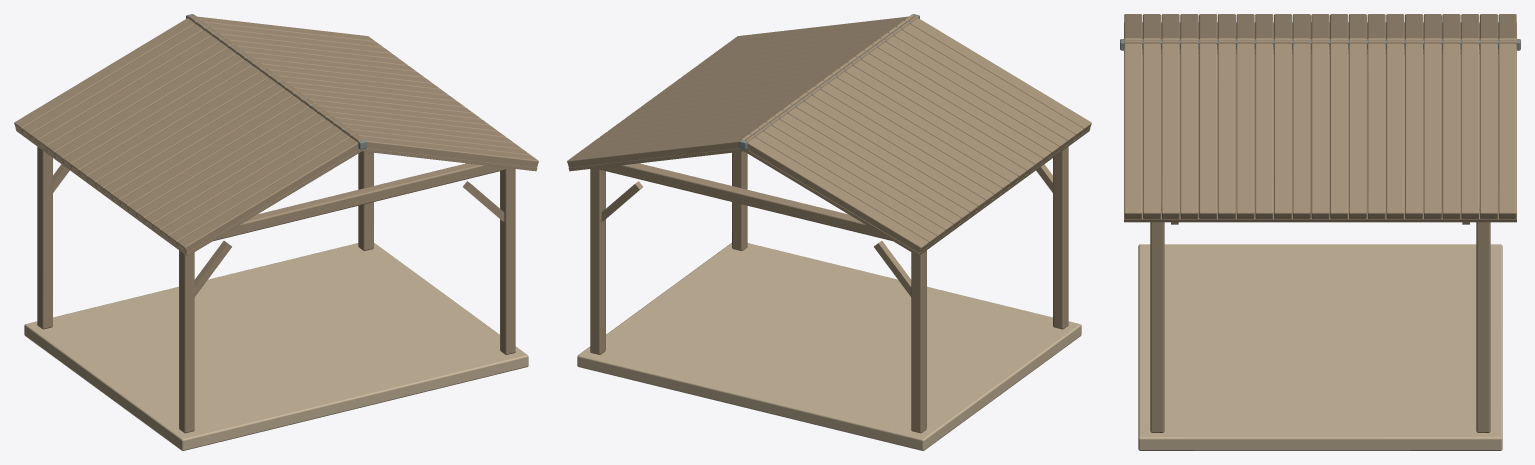
The model's file is coastal-saltworks-and-trade-port-coastal-saltworks-and-85ccae7a__31361.glb.
3 renders of one model, left to right at view 1: azimuth 30°, elevation 25°; view 2: azimuth 150°, elevation 25°; view 3: azimuth 270°, elevation 25°, orthographic. The views are drawn at different scales.
Parts seen in each view (by area): view 1: coastal-saltworks-and-trade-port-salter-shelter; view 2: coastal-saltworks-and-trade-port-salter-shelter; view 3: coastal-saltworks-and-trade-port-salter-shelter.
Part boxes in pixels (x1,y1,x2,y2): coastal-saltworks-and-trade-port-salter-shelter: [14, 14, 538, 450]; coastal-saltworks-and-trade-port-salter-shelter: [567, 14, 1091, 450]; coastal-saltworks-and-trade-port-salter-shelter: [1120, 14, 1520, 450].
Size of the model in its own units: 4.91 by 3.63 by 4.18.
